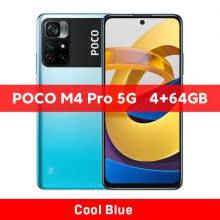Smartphone: (107, 16, 182, 191), (39, 14, 105, 191)
